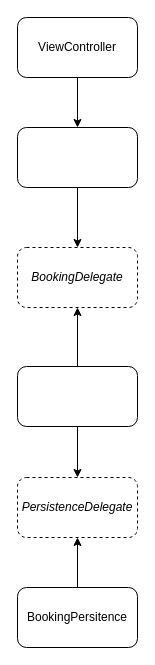
This 155x665 diagram has some shape labels left out. The centre of each missing label's shape, as x and y in pixels:
"BookingInteractor" goes at (77,157).
"BookingRepository" goes at (77,396).
